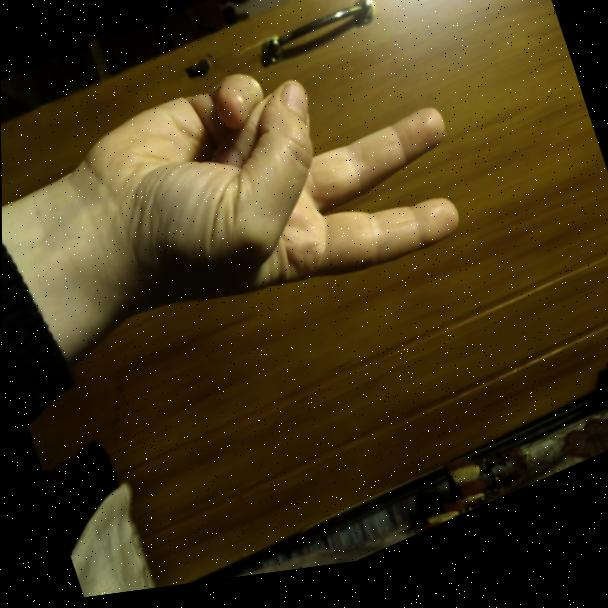two: (94, 0, 479, 373)
